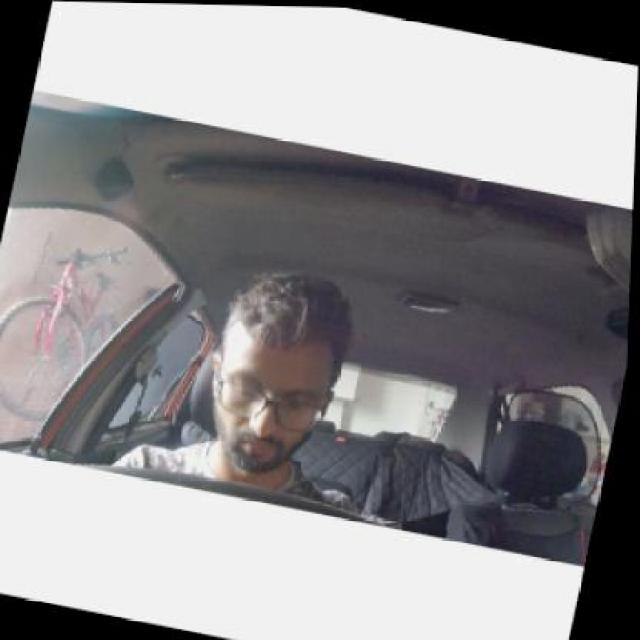drowsy: (200, 244, 370, 497)
